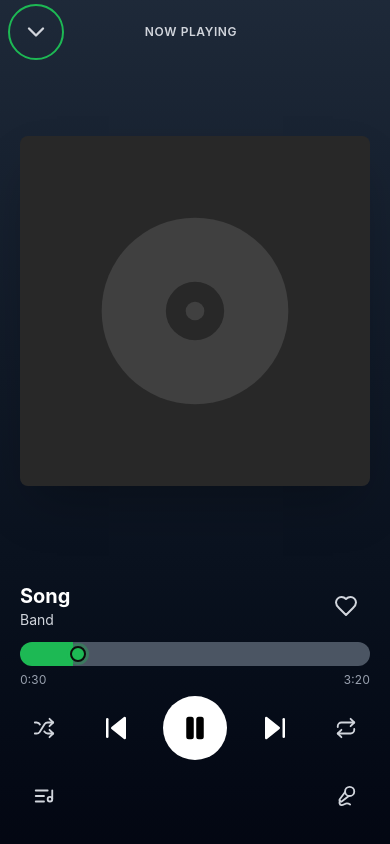
NowPlayingSheet › switches between cover, queue and lyrics
Click the button named "Lyrics": click(346, 796) left=322, top=772, right=370, bottom=820
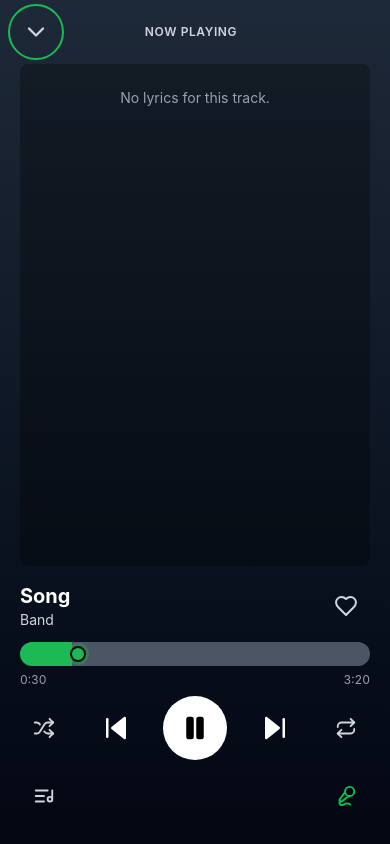
Expected: the text "No lyrics for this track." is shown, left=120, top=89, right=270, bottom=106
Click the button named "Queue": click(44, 796) left=20, top=772, right=68, bottom=820
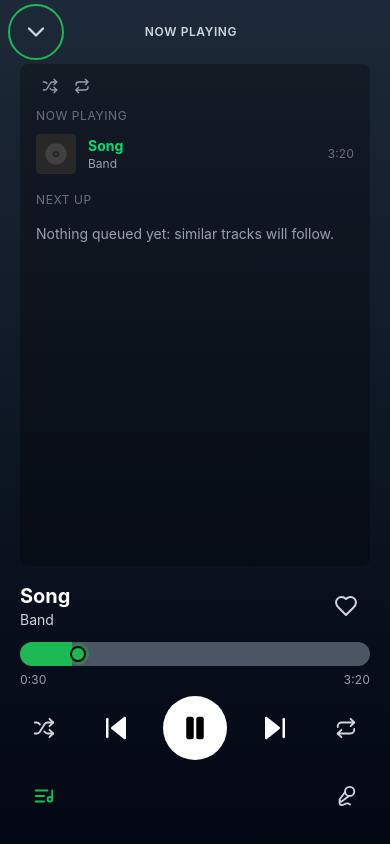
Expected: the text "Next up" is shown, left=36, top=192, right=92, bottom=208
